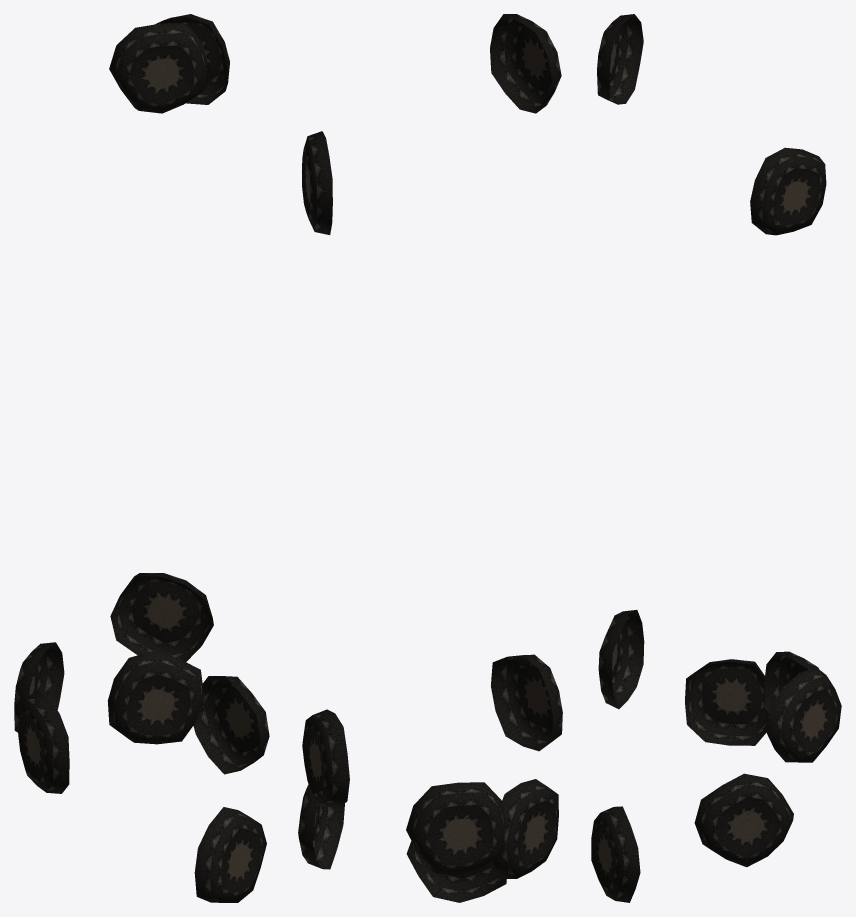
The model's file is Sitka_Mature_02_LowPruned_Healed_LOD2.fbx.
The picture shows the model from 3 angles, left to right: view 1: azimuth 30°, elevation 25°; view 2: azimuth 150°, elevation 25°; view 3: azimuth 270°, elevation 25°; orthographic projection. The views are drawn at different scales.
Visible parts, largest first — view 1: Sitka_Mature_02_LowPruned_Healed_LOD2_Scars; view 2: Sitka_Mature_02_LowPruned_Healed_LOD2_Scars; view 3: Sitka_Mature_02_LowPruned_Healed_LOD2_Scars.
Part boxes in pixels (<box>): Sitka_Mature_02_LowPruned_Healed_LOD2_Scars: <box>14,14,269,902</box>; Sitka_Mature_02_LowPruned_Healed_LOD2_Scars: <box>298,14,562,902</box>; Sitka_Mature_02_LowPruned_Healed_LOD2_Scars: <box>591,14,841,902</box>.
Size of what is drawn, in the model's own units: 31.51 by 118 by 31.67.
2 materials, 2 textured.
